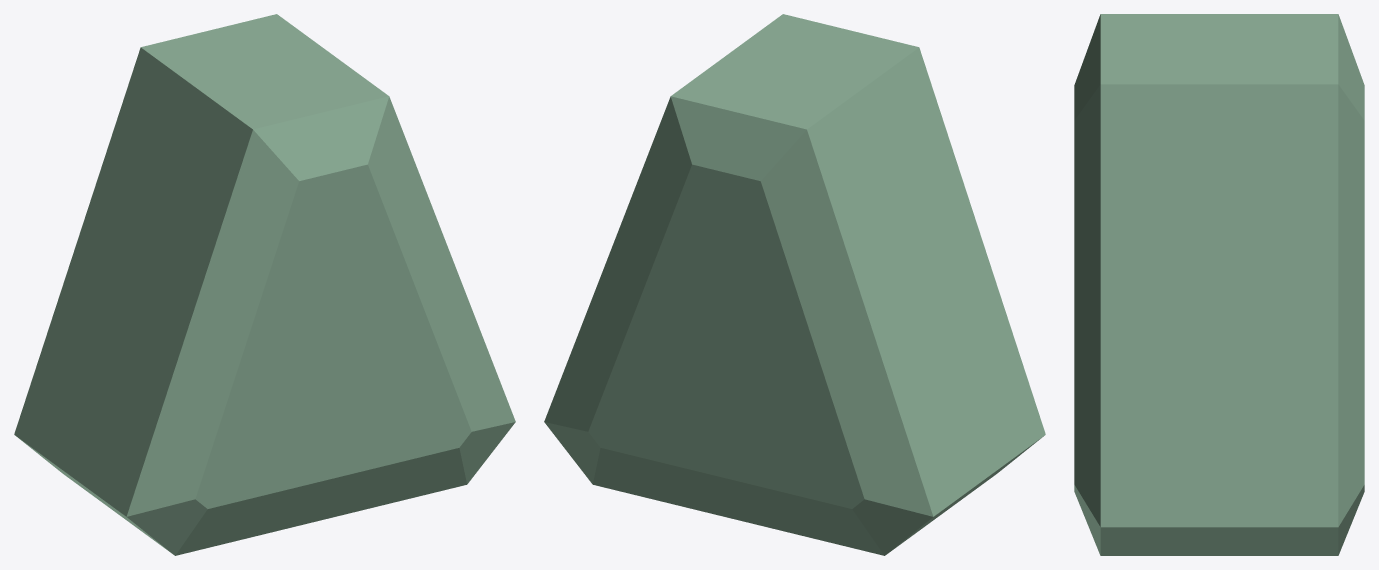
File: SnakeTailSeg1.fbx
The picture shows the model from 3 angles, left to right: view 1: azimuth 30°, elevation 25°; view 2: azimuth 150°, elevation 25°; view 3: azimuth 270°, elevation 25°; orthographic projection. The views are drawn at different scales.
Visible parts, largest first — view 1: Tail; view 2: Tail; view 3: Tail.
Part boxes in pixels (left/top/right/bottom): Tail: left=14, top=14, right=515, bottom=555; Tail: left=544, top=14, right=1045, bottom=555; Tail: left=1074, top=14, right=1364, bottom=555.
Bounding box in the file's own units: 200 × 200 × 122.
